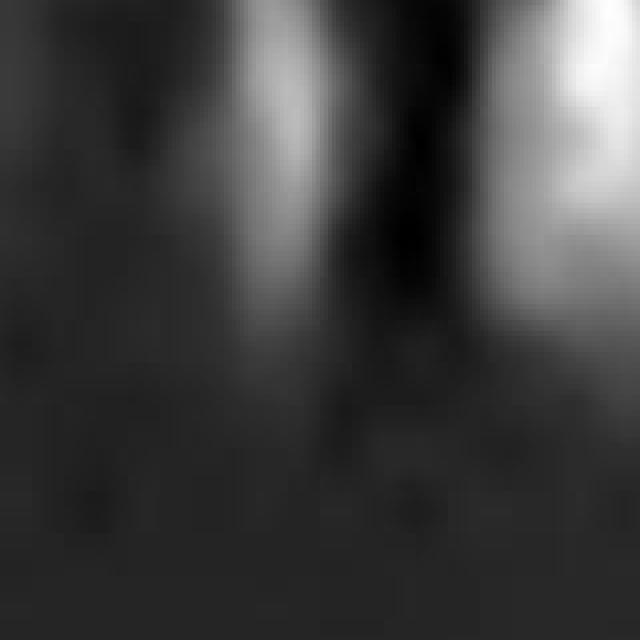person: (461, 1, 640, 444), (145, 1, 365, 321)
